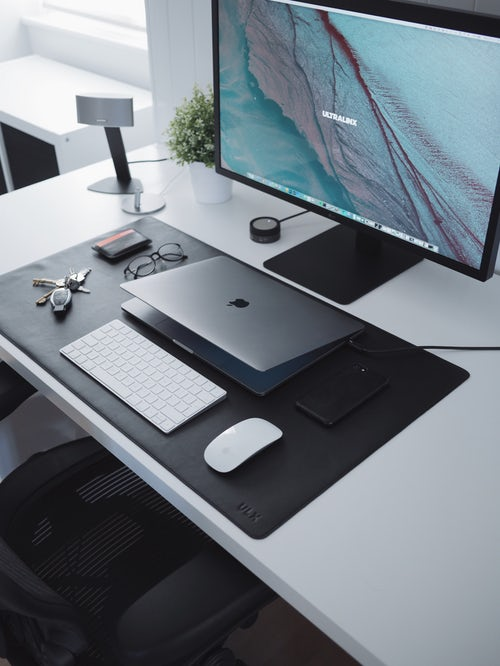phone: (298, 359, 398, 428)
